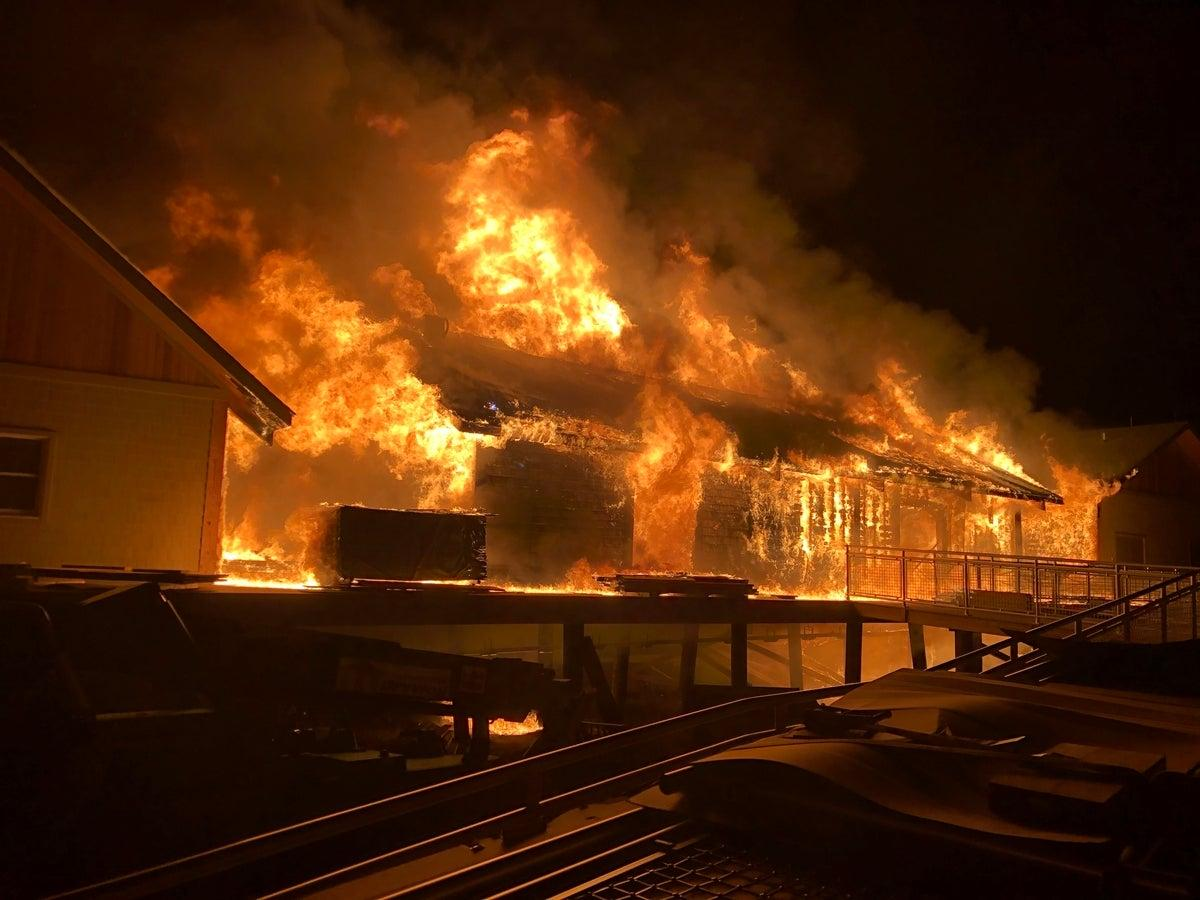Fire: (164, 105, 1121, 594)
